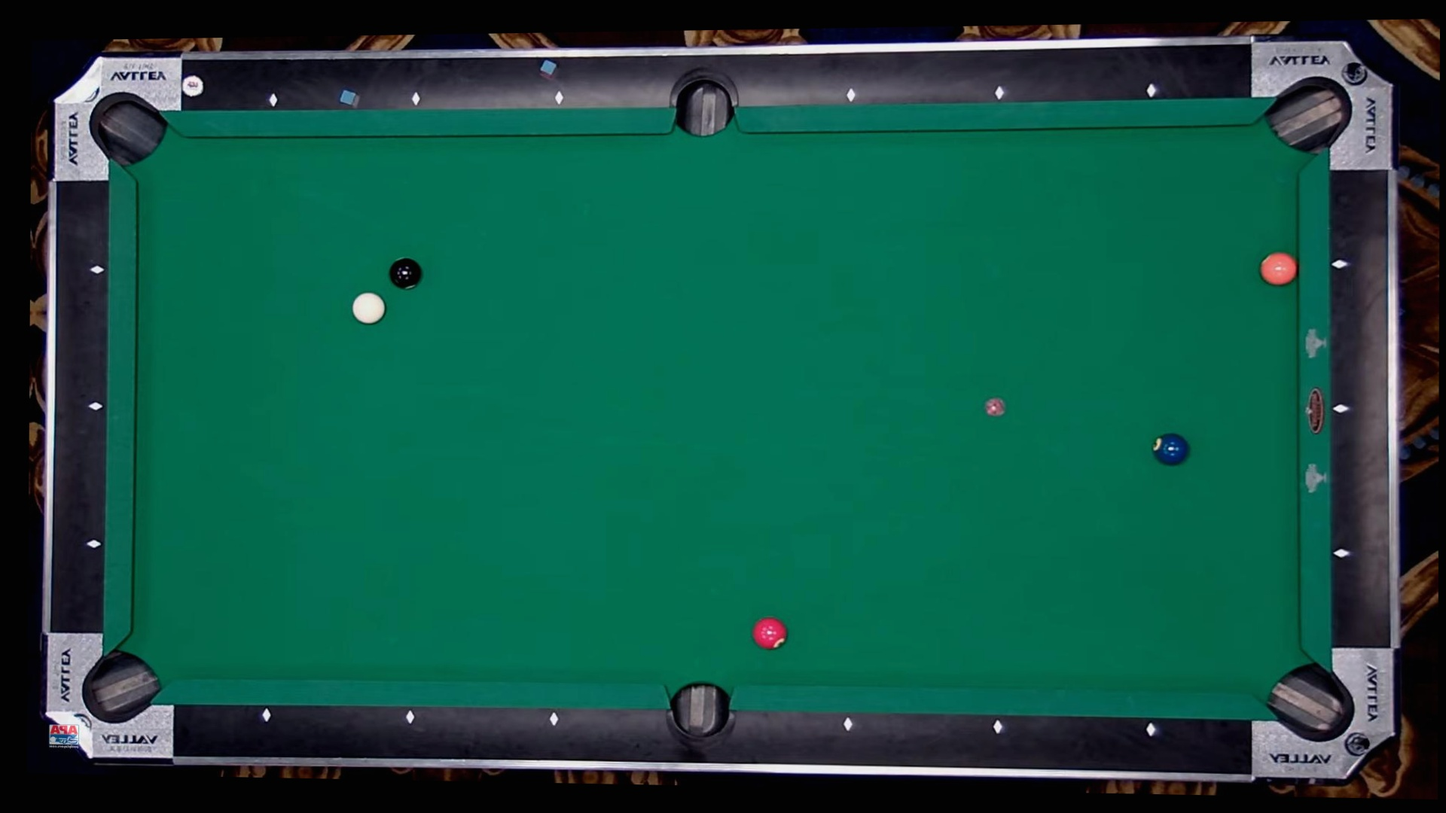Black: (1145, 86, 1156, 97), (995, 88, 1006, 99), (91, 401, 102, 412), (406, 712, 417, 723), (845, 718, 856, 729), (1146, 724, 1157, 735), (1338, 547, 1348, 558), (1334, 257, 1344, 268), (845, 90, 856, 100), (554, 92, 564, 103), (411, 94, 422, 104), (269, 95, 280, 105), (91, 266, 101, 277), (261, 710, 271, 721), (994, 722, 1004, 733), (1337, 404, 1347, 414), (89, 539, 99, 549), (549, 715, 559, 725)
Cue: (1152, 432, 1188, 466), (1260, 252, 1296, 286), (752, 616, 787, 650)
Solid: (389, 256, 423, 291)
Stripe: (351, 291, 386, 326)
